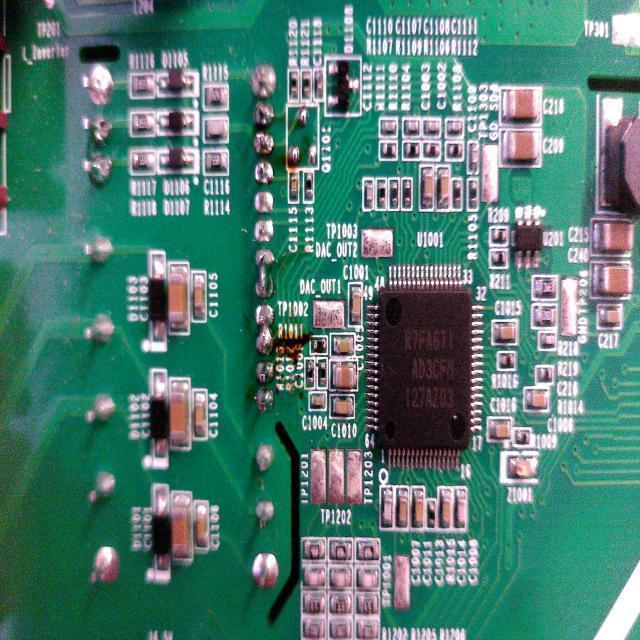Soldering shorted: (251, 303, 277, 362), (252, 246, 276, 296)
